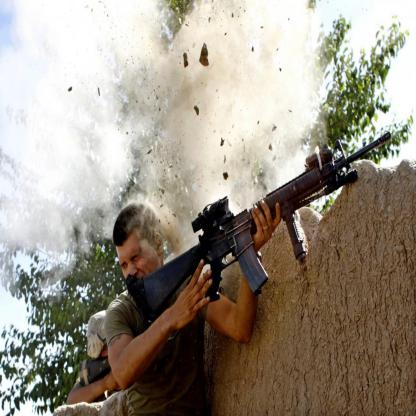rifle: (143, 128, 393, 316)
